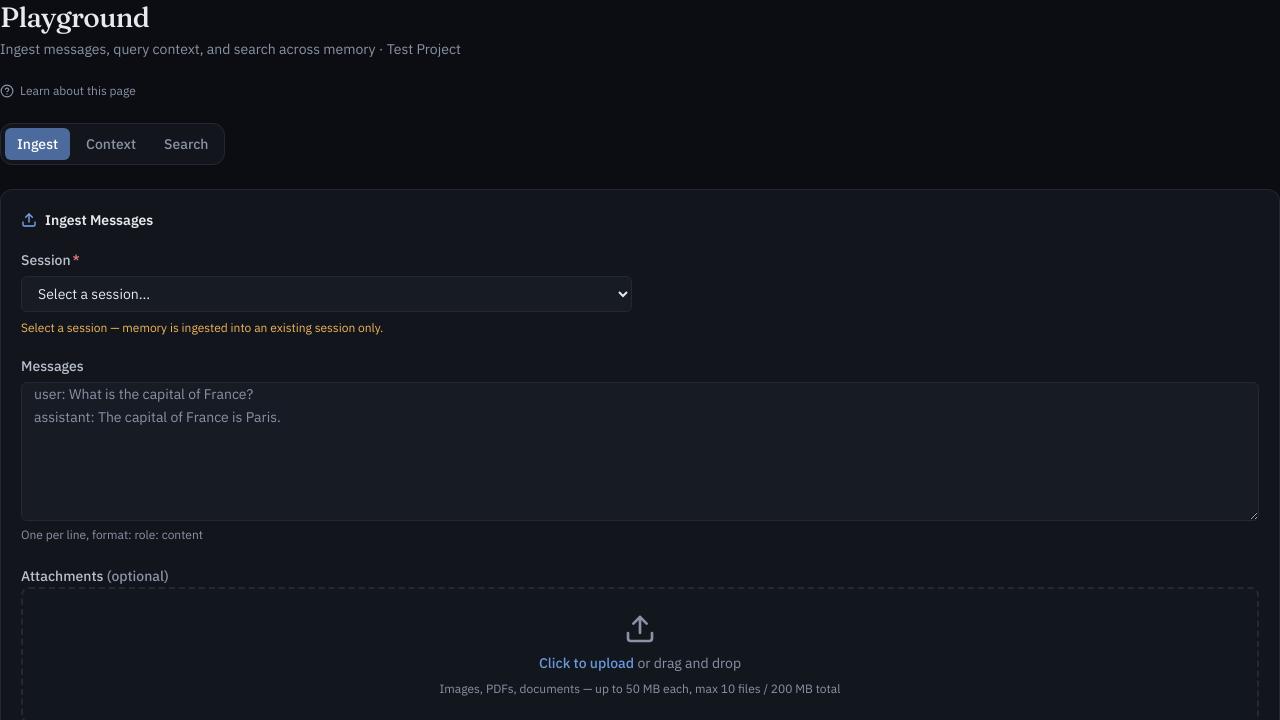
PlaygroundPage tabs (?tab= URL state) › clicking Context writes ?tab=context via router.replace (no scroll) and switches panels
The image size is (1280, 720).
Click the tab "Context" at (111, 144), box 74,128 -> 148,160
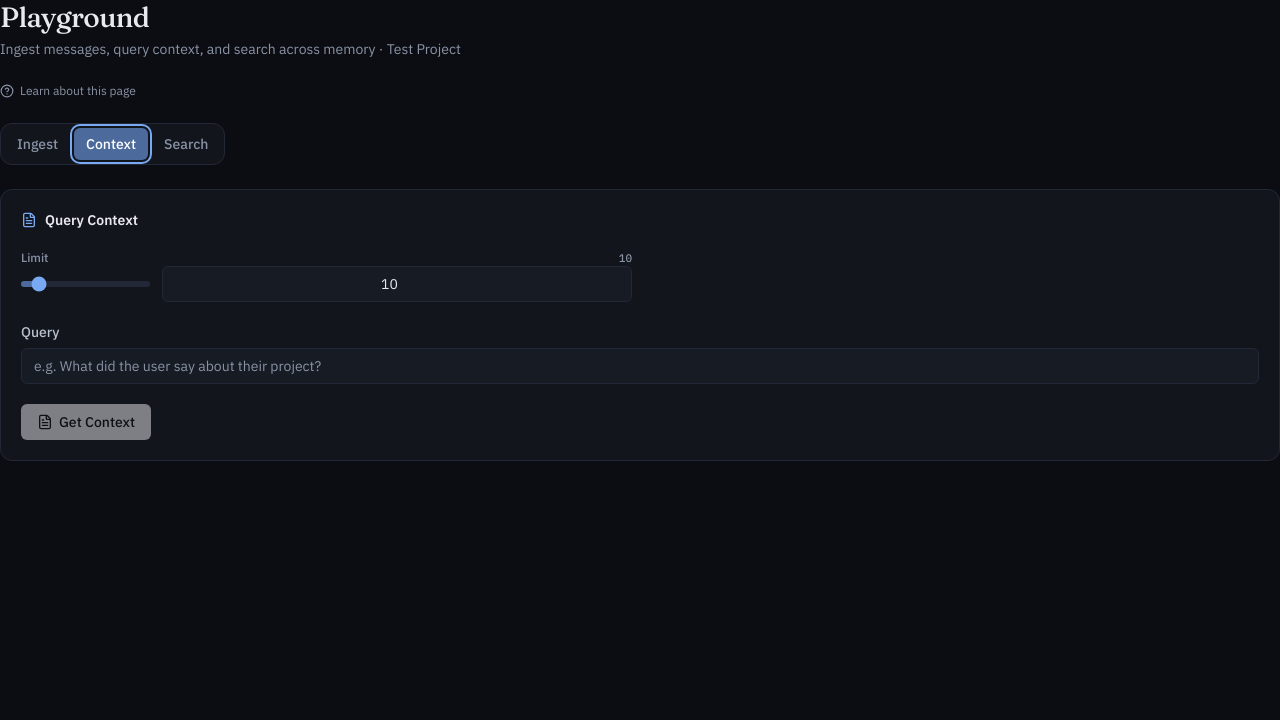
Now the heading "Query Context" is shown, box 21,211 -> 138,229
